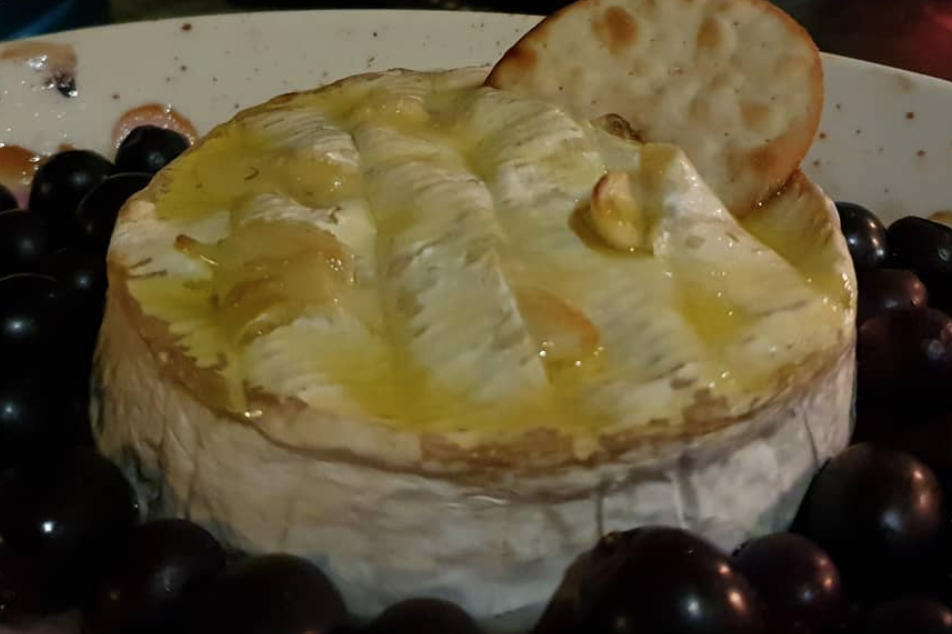camembert: (76, 67, 858, 629)
